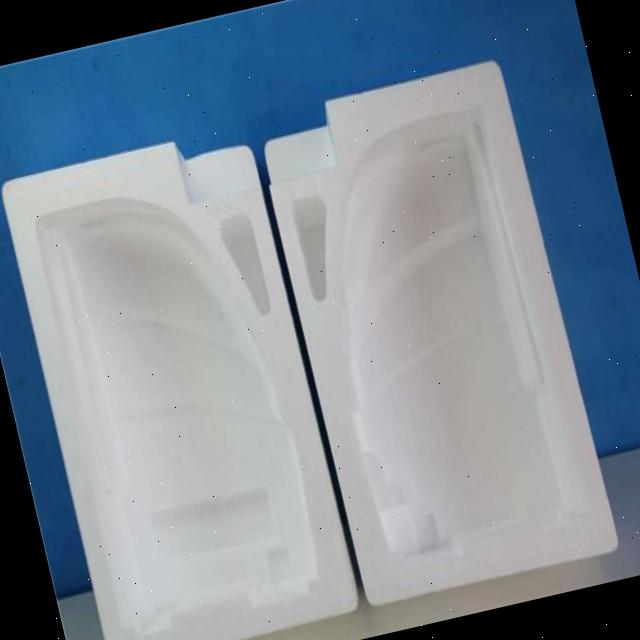styrofoam: (250, 54, 622, 612), (0, 118, 363, 640)
